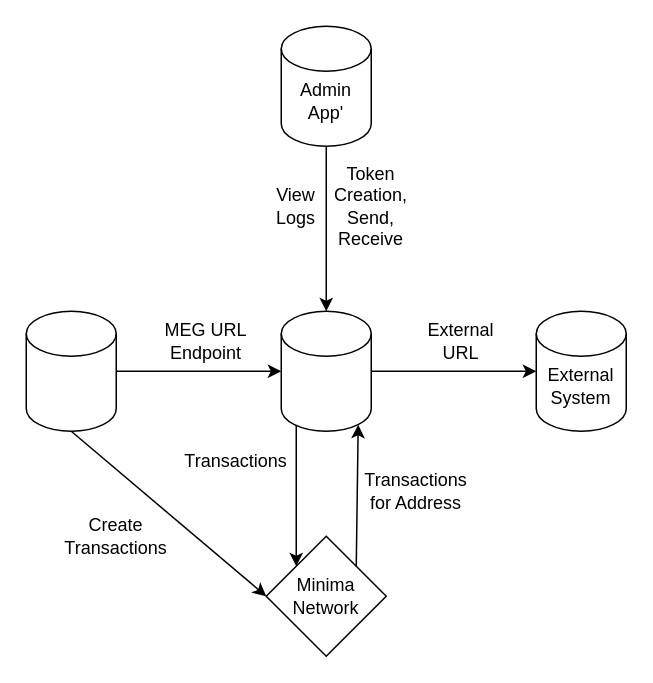
Image size: 653x683. Some labels were removed from this diagram. The shapes that lost their labels are listed below. From the top down, each one's box as (x1, y1, x2, y2) in pixels, then its label:
(25, 310, 116, 431): Client MiniDapp
(280, 310, 371, 431): MEG MiniDapp
